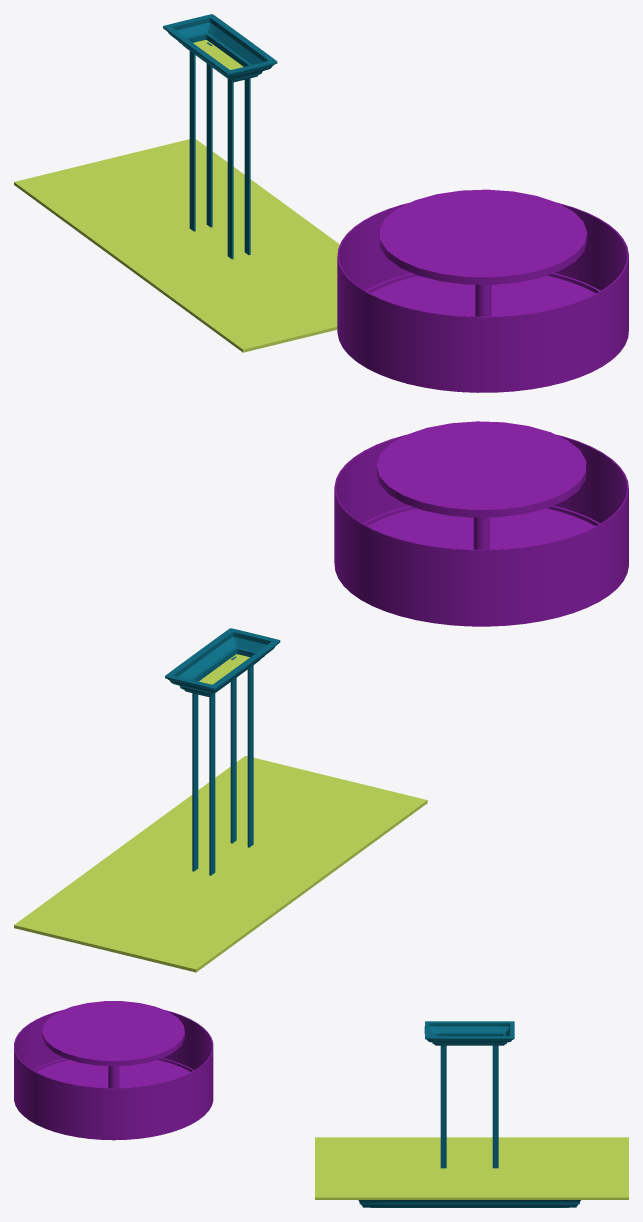
File: classicandmodern_obj.obj
3 renders of one model, top to bottom at view 1: azimuth 30°, elevation 25°; view 2: azimuth 150°, elevation 25°; view 3: azimuth 270°, elevation 25°, orthographic. The views are drawn at different scales.
Visible parts, largest first — view 1: 2, c1, c4, 1, c2, Rectangle018; view 2: 2, c1, c4, 1, c2; view 3: 2, c1, c4, 1, c2.
Part boxes in pixels (x1=…): 2: x1=14, y1=139, x2=339, y2=352; c1: x1=337, y1=202, x2=628, y2=392; c4: x1=338, y1=189, x2=628, y2=316; 1: x1=163, y1=14, x2=277, y2=259; c2: x1=370, y1=275, x2=595, y2=316; Rectangle018: x1=193, y1=40, x2=243, y2=69; 2: x1=14, y1=755, x2=427, y2=972; c1: x1=334, y1=434, x2=628, y2=626; c4: x1=335, y1=421, x2=627, y2=550; 1: x1=165, y1=628, x2=280, y2=875; c2: x1=368, y1=508, x2=595, y2=549; 2: x1=315, y1=1137, x2=628, y2=1199; c1: x1=14, y1=1010, x2=213, y2=1140; c4: x1=14, y1=1001, x2=212, y2=1088; 1: x1=358, y1=1021, x2=580, y2=1207; c2: x1=36, y1=1060, x2=190, y2=1087.
Size of the model in its own units: 700 by 629 by 2154.
